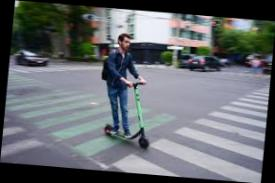nonhelmet: (91, 30, 164, 150)
